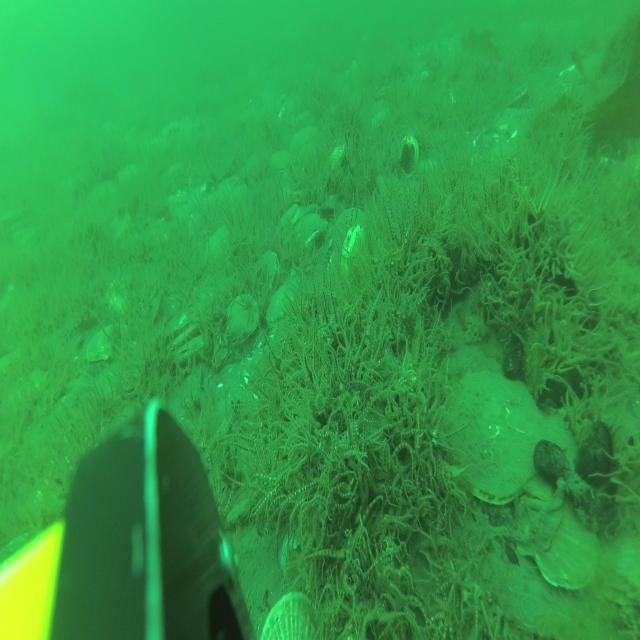scallop: (447, 364, 542, 500), (539, 498, 599, 584), (520, 418, 576, 505), (510, 470, 564, 554), (260, 592, 326, 640), (281, 530, 320, 594), (265, 279, 302, 331), (224, 292, 259, 340), (292, 212, 327, 257), (90, 322, 126, 365), (335, 207, 367, 255), (252, 250, 280, 302), (164, 317, 196, 350), (207, 228, 234, 267), (325, 139, 344, 190), (276, 204, 304, 236), (268, 147, 294, 180), (175, 335, 202, 365), (292, 122, 316, 154)
